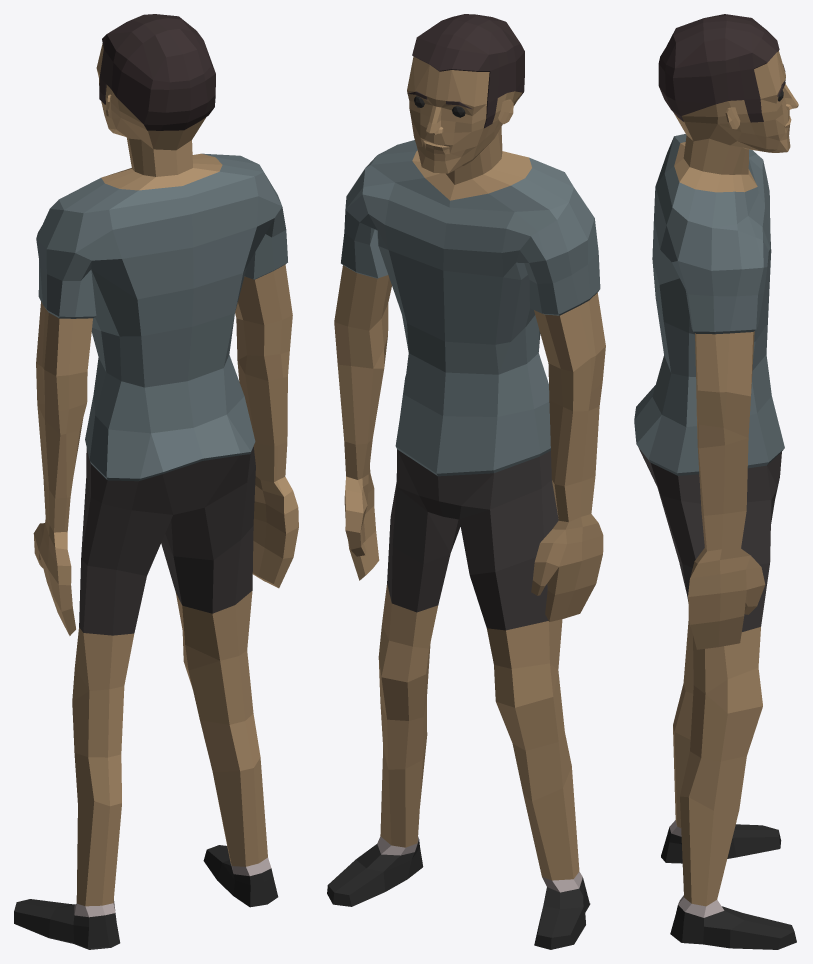
The model's file is Male_Casual.glb.
3 renders of one model, left to right at view 1: azimuth 30°, elevation 25°; view 2: azimuth 150°, elevation 25°; view 3: azimuth 270°, elevation 25°, orthographic.
Visible parts, largest first — view 1: Male_Casual; view 2: Male_Casual; view 3: Male_Casual.
Boxes of the visible parts, box(x1,y1,x2,y2) form: Male_Casual: box(14, 14, 298, 949); Male_Casual: box(327, 14, 605, 949); Male_Casual: box(634, 14, 798, 949).
Bounding box in the file's own units: 1.43 × 4.83 × 0.8229.
